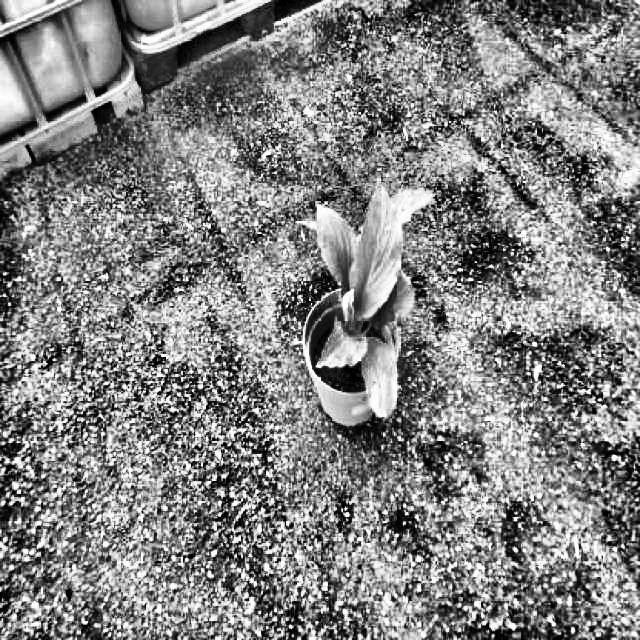plants: (297, 181, 434, 417)
